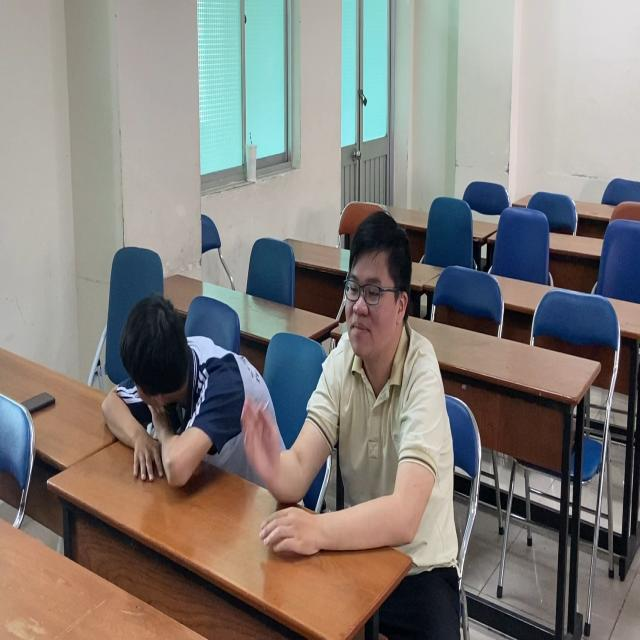sleep: (104, 290, 240, 493)
